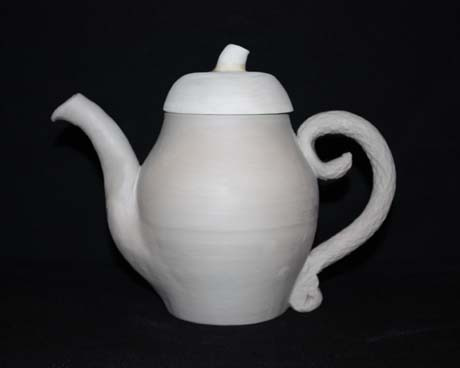teapot: (39, 24, 423, 350)
